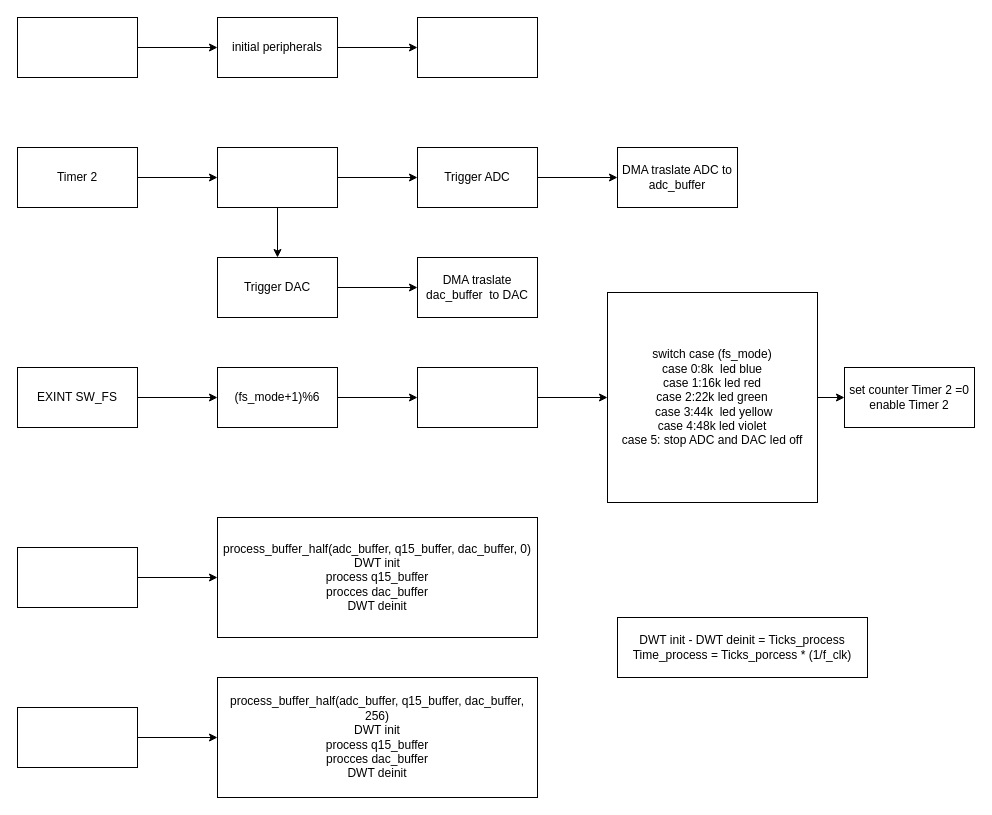
This 992x815 diagram has some shape labels left out. The centre of each missing label's shape, as x and y in pixels:
ADC full convertion: the point at 77,737
ADC half convertion: the point at 77,577
Disable Timer 2: the point at 477,397
main(): the point at 77,47
Update Event: the point at 277,177
while(1): the point at 477,47
